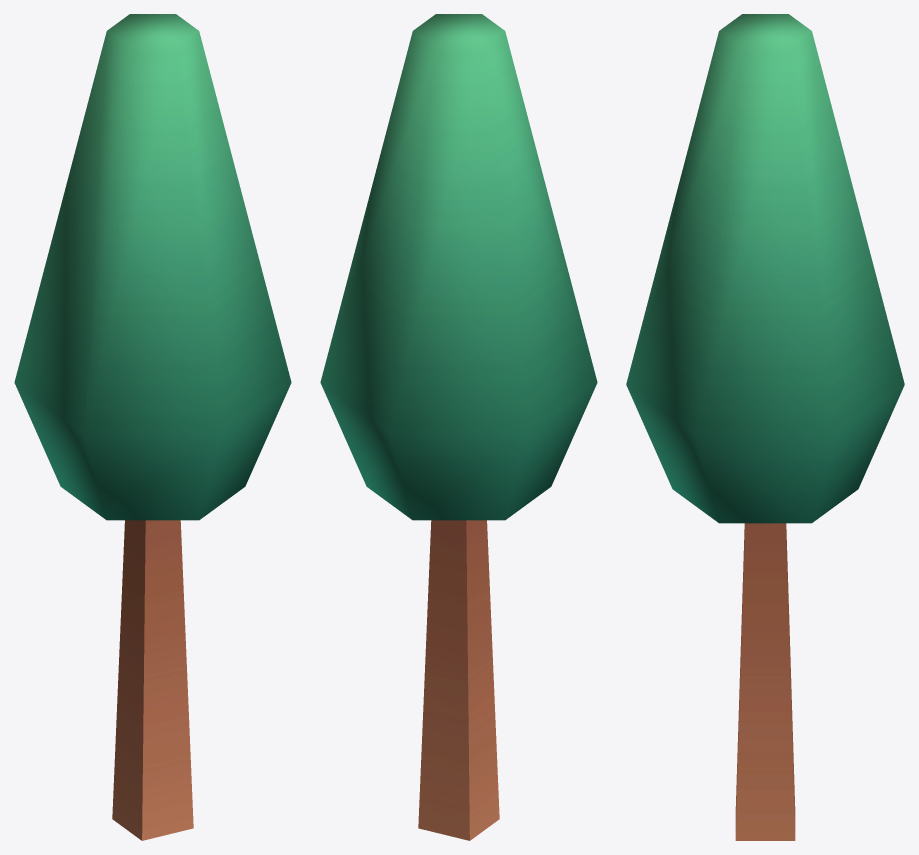
File: tree_suburban_large.glb
3 renders of one model, left to right at view 1: azimuth 30°, elevation 25°; view 2: azimuth 150°, elevation 25°; view 3: azimuth 270°, elevation 25°, orthographic.
Parts seen in each view (by area): view 1: tree-large; view 2: tree-large; view 3: tree-large.
Boxes of the visible parts, bbox=[...] form: tree-large: bbox=[14, 14, 291, 840]; tree-large: bbox=[320, 14, 597, 840]; tree-large: bbox=[626, 14, 904, 840].
Size of the model in its own units: 1.68 by 6.14 by 1.94.
1 material, 1 textured.
